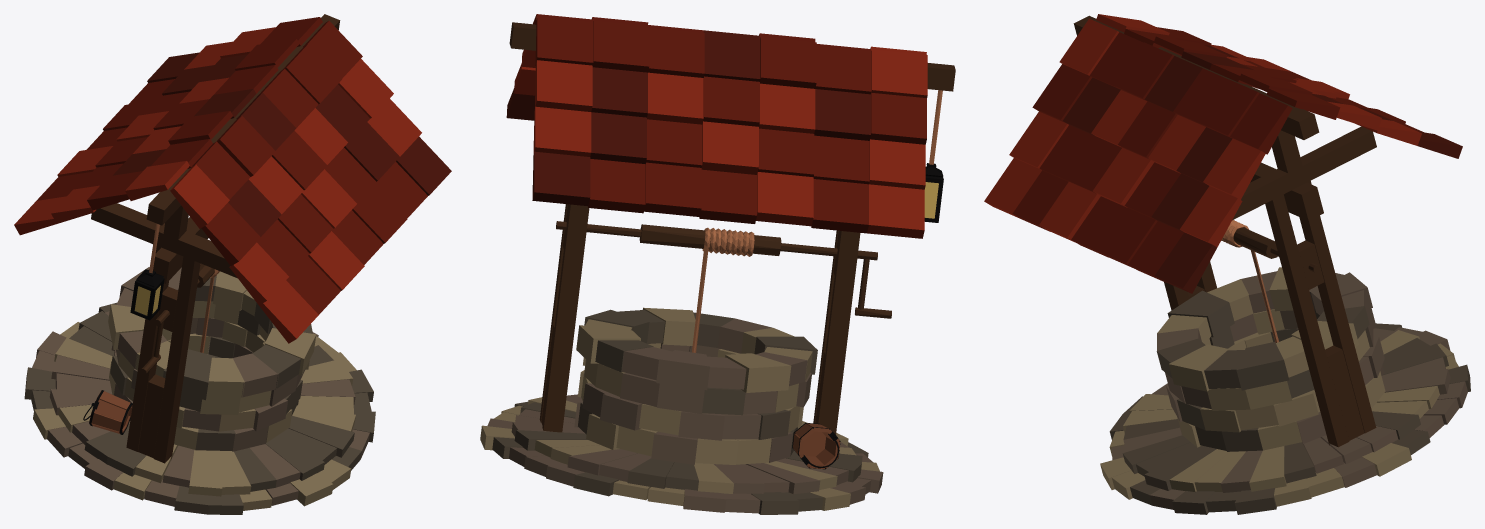
File: well_raytracer.obj
3 renders of one model, left to right at view 1: azimuth 30°, elevation 25°; view 2: azimuth 150°, elevation 25°; view 3: azimuth 270°, elevation 25°, orthographic. The views are drawn at different scales.
Parts seen in each view (by area): view 1: Roof_Cube.002; view 2: Roof_Cube.002; view 3: Roof_Cube.002.
Boxes of the visible parts, left/top/right/bottom form: Roof_Cube.002: left=14, top=14, right=451, bottom=514; Roof_Cube.002: left=480, top=14, right=955, bottom=514; Roof_Cube.002: left=984, top=14, right=1470, bottom=514.
Bounding box in the file's own units: 0.9813 × 0.9324 × 0.9566.
